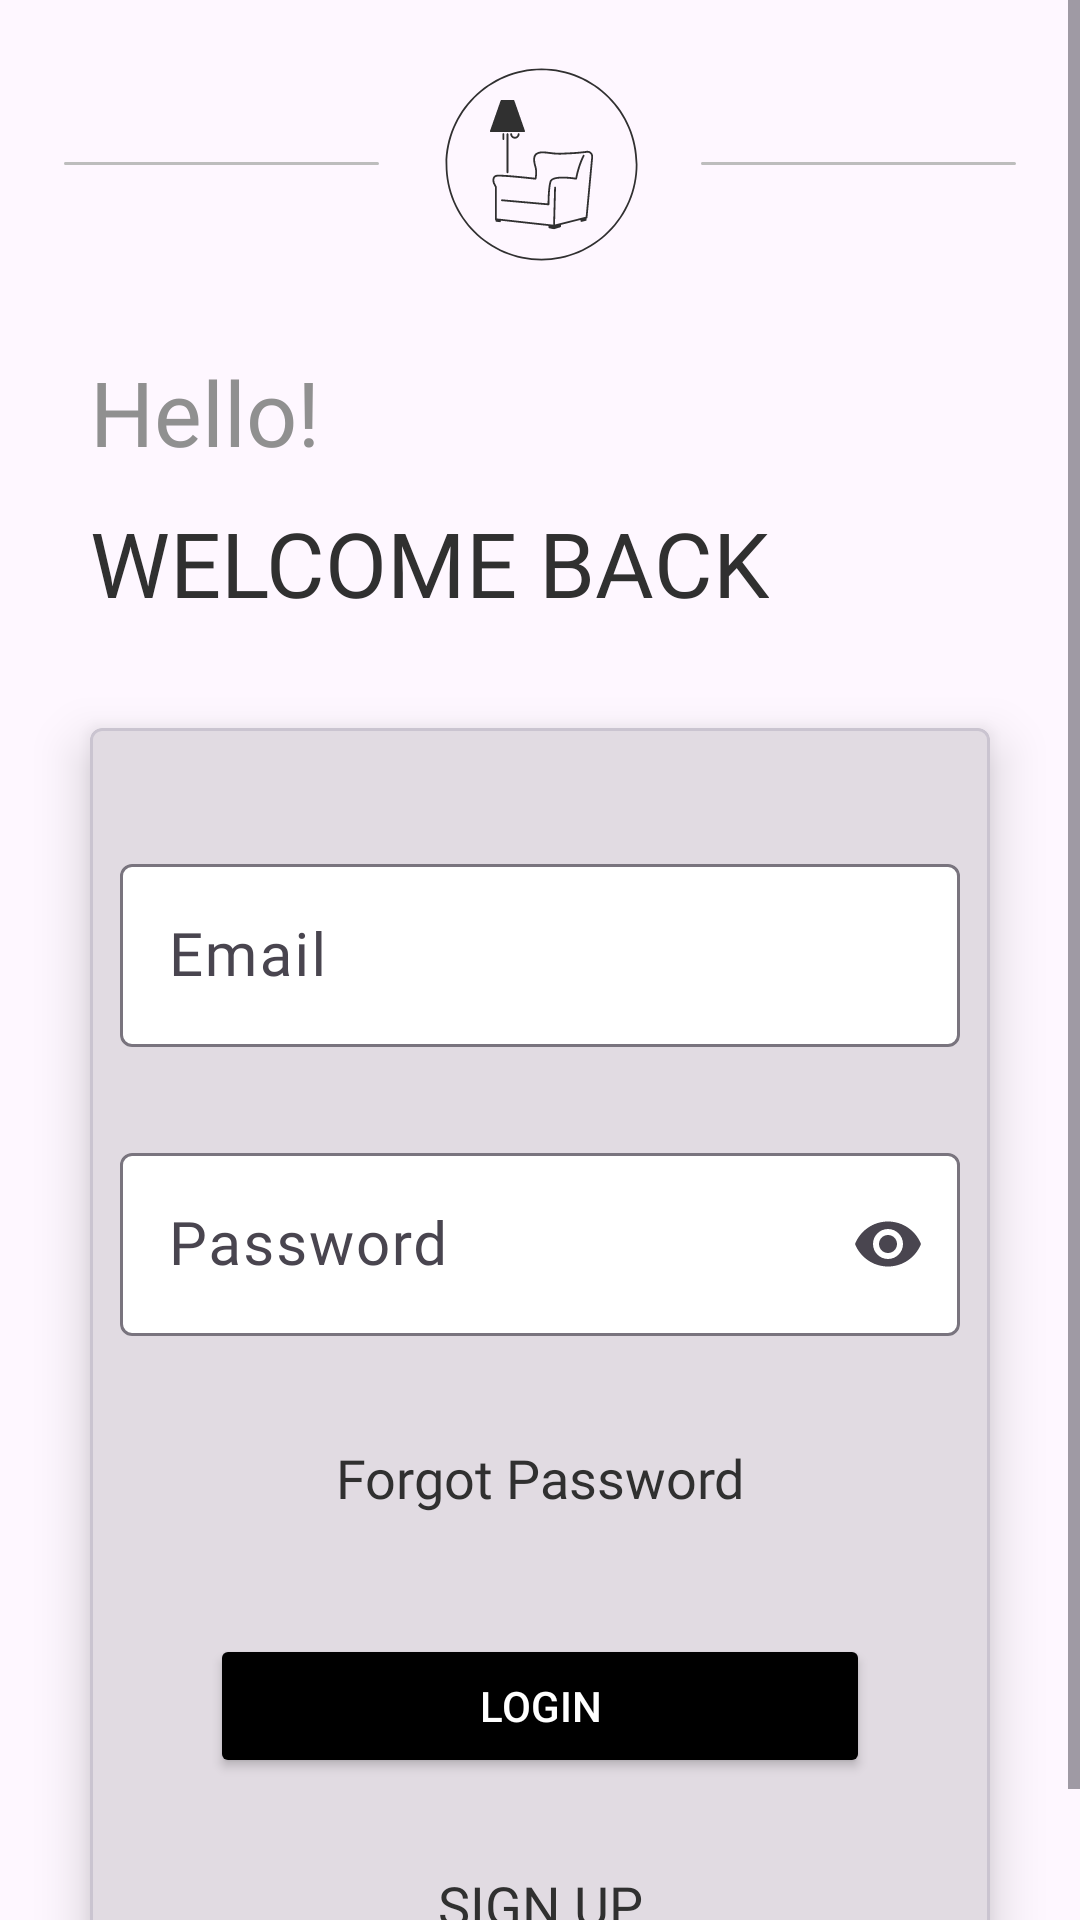

Screen size 1080px×1920px. Icon name, then its center in pixels as (x,y):
living room: (541,164)
